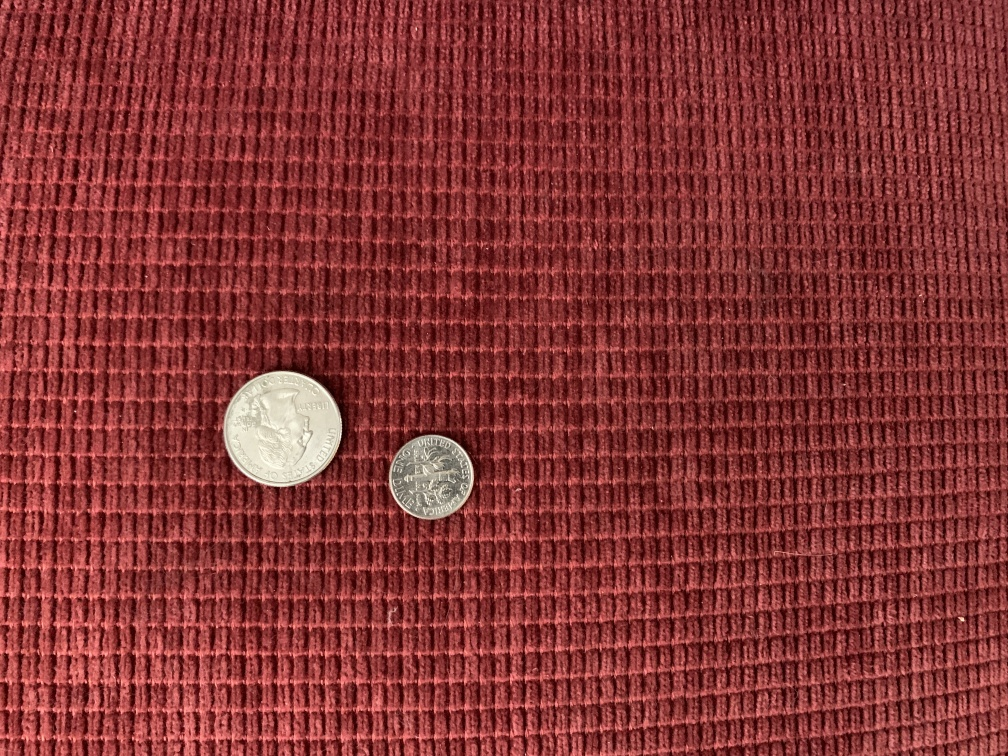dime: (386, 429, 477, 525)
quarter: (219, 366, 345, 491)
